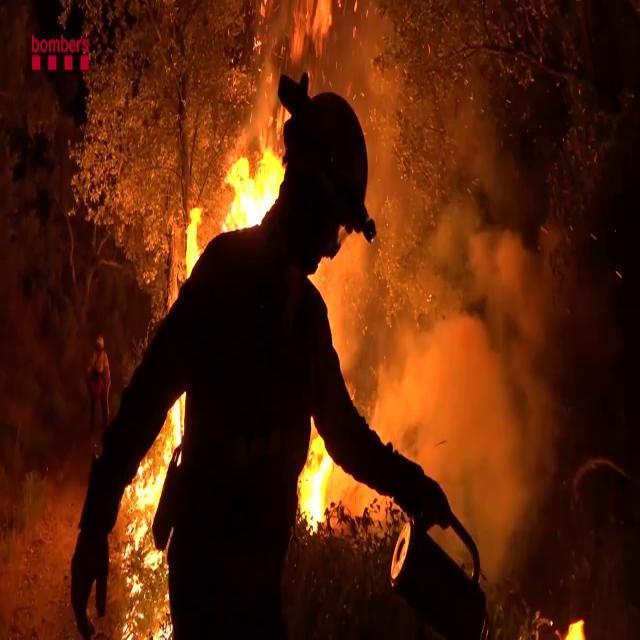Fire: (117, 385, 187, 635), (225, 111, 288, 236), (296, 414, 336, 534), (522, 594, 591, 640)
Smoke: (357, 16, 593, 538)
